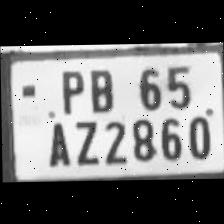0: (184, 110, 214, 159)
2: (97, 116, 126, 164)
5: (162, 64, 192, 108)
6: (132, 64, 162, 111), (156, 114, 184, 162)
8: (128, 116, 156, 163)
A: (40, 115, 69, 169)
B: (83, 64, 116, 112)
P: (54, 64, 86, 113)
Z: (68, 116, 98, 167)
